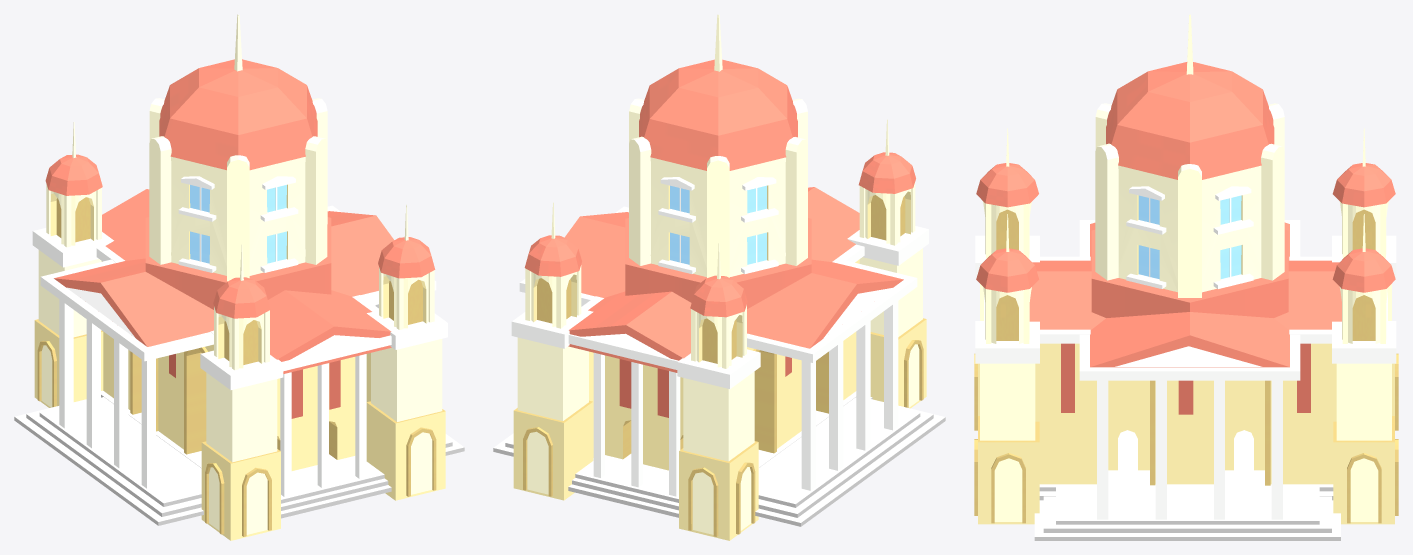
The model's file is temple.glb.
3 renders of one model, left to right at view 1: azimuth 30°, elevation 25°; view 2: azimuth 150°, elevation 25°; view 3: azimuth 270°, elevation 25°, orthographic. The views are drawn at different scales.
Parts seen in each view (by area): view 1: temple(Clone); view 2: temple(Clone); view 3: temple(Clone).
Part boxes in pixels (x1=…): temple(Clone): x1=14, y1=14, x2=464, y2=540; temple(Clone): x1=493, y1=14, x2=945, y2=540; temple(Clone): x1=974, y1=14, x2=1398, y2=540.
Size of the model in its own units: 19.2 by 25.6 by 21.7.
1 material, 1 textured.
